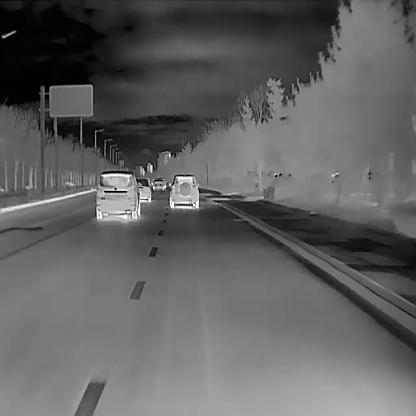car: (96, 169, 142, 219), (168, 173, 199, 209), (135, 176, 152, 202), (152, 177, 164, 189), (162, 177, 166, 188)
